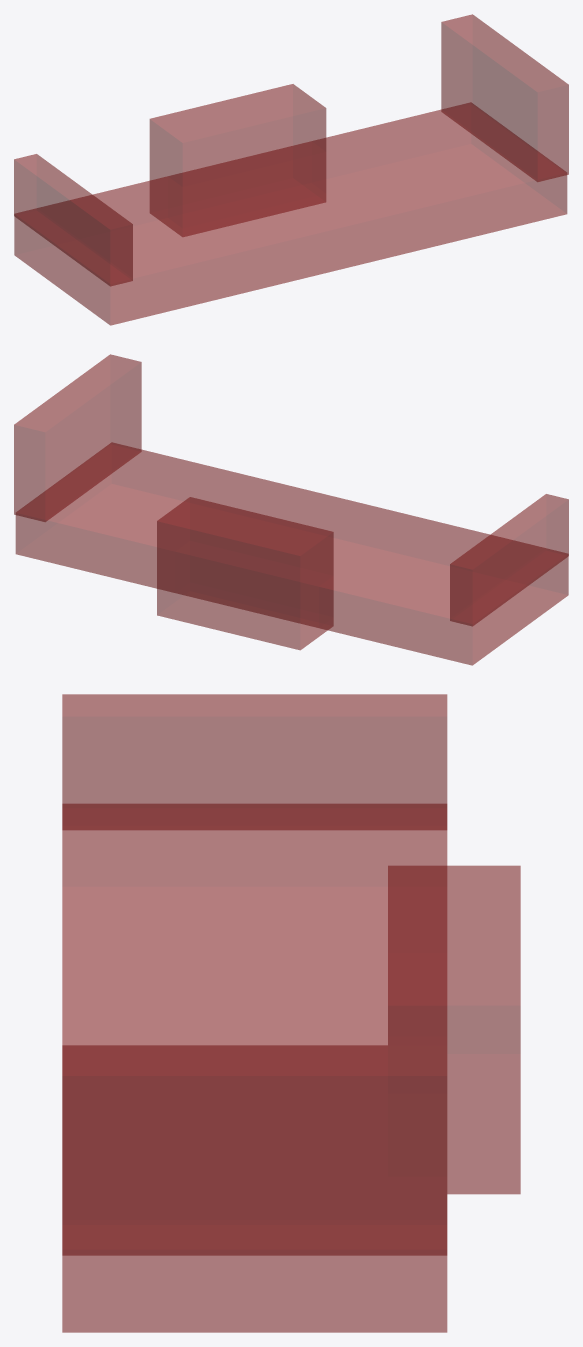
File: SM_Prop_Scissor_Lift_01_Collision.fbx
3 renders of one model, top to bottom at view 1: azimuth 30°, elevation 25°; view 2: azimuth 150°, elevation 25°; view 3: azimuth 270°, elevation 25°, orthographic. The views are drawn at different scales.
Visible parts, largest first — view 1: SM_Prop_Scissor_Lift_01_Collision; view 2: SM_Prop_Scissor_Lift_01_Collision; view 3: SM_Prop_Scissor_Lift_01_Collision.
Boxes of the visible parts, x1,y1,x2,y2 form: SM_Prop_Scissor_Lift_01_Collision: (14,14,568,325); SM_Prop_Scissor_Lift_01_Collision: (14,354,568,665); SM_Prop_Scissor_Lift_01_Collision: (62,694,520,1332).
Size of the model in its own units: 366 by 105 by 159.
